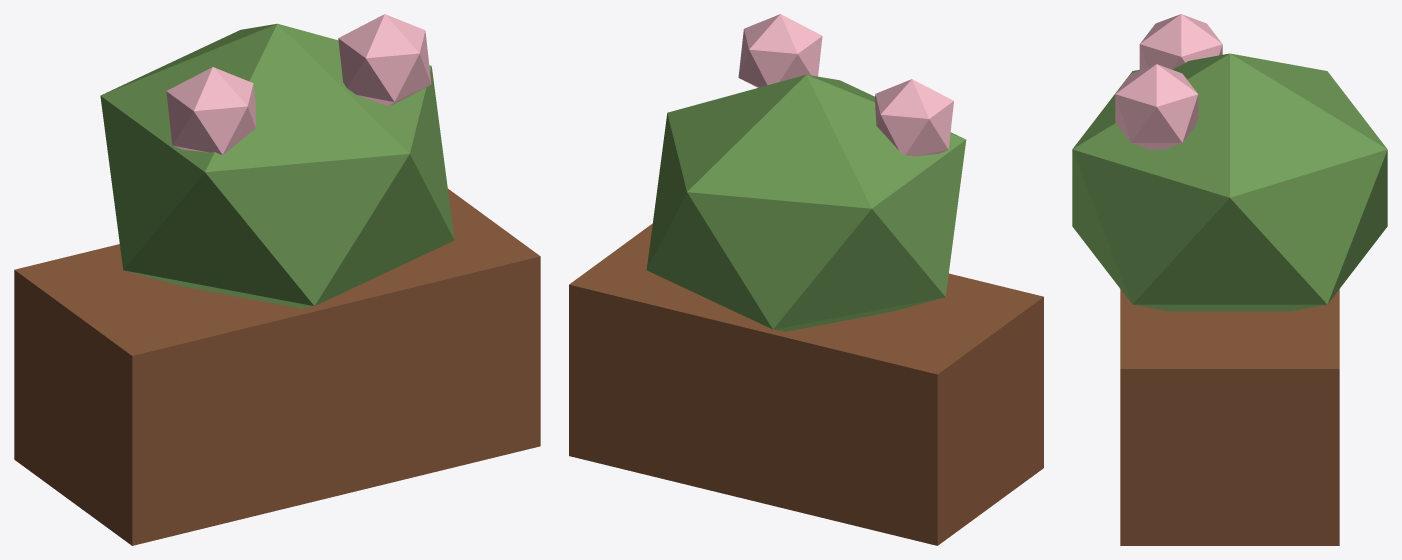
Rendered from prop_planter.fbx.
The picture shows the model from 3 angles, left to right: view 1: azimuth 30°, elevation 25°; view 2: azimuth 150°, elevation 25°; view 3: azimuth 270°, elevation 25°; orthographic projection. The views are drawn at different scales.
Parts seen in each view (by area): view 1: prop_planter; view 2: prop_planter; view 3: prop_planter.
Part boxes in pixels (x1,y1,x2,y2): prop_planter: [14, 14, 540, 545]; prop_planter: [569, 14, 1043, 545]; prop_planter: [1072, 14, 1387, 545].
Size of the model in its own units: 0.9 by 0.95 by 0.6465.
Materials: 1 (1 with a texture image).
